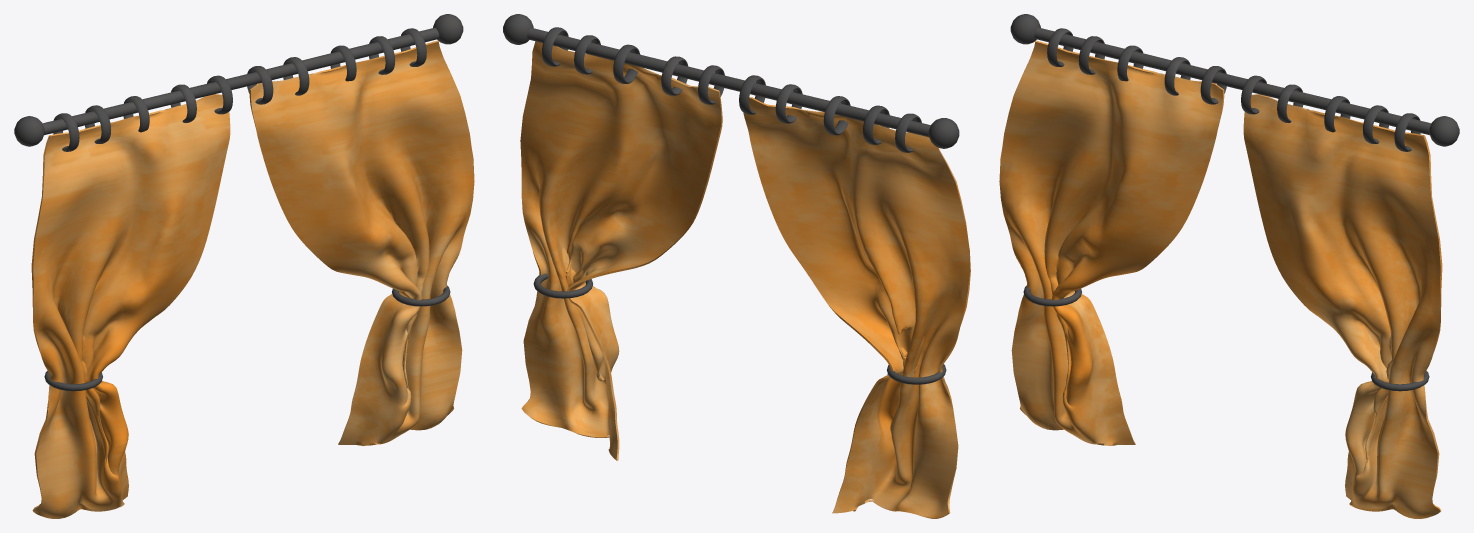
Rendered from House_Curtain_v01.fbx.
3 views of the same model, side by side, from view 1: azimuth 30°, elevation 25°; view 2: azimuth 150°, elevation 25°; view 3: azimuth 330°, elevation 25° (orthographic).
Parts seen in each view (by area): view 1: Curtain_Cloth, Curtain_Ring, Curtain_Poll, Curtain_Ball, Curtain_Holder; view 2: Curtain_Cloth, Curtain_Ring, Curtain_Poll, Curtain_Ball, Curtain_Holder; view 3: Curtain_Cloth, Curtain_Ring, Curtain_Poll, Curtain_Ball, Curtain_Holder.
Boxes of the visible parts, x1,y1,x2,y2 form: Curtain_Cloth: [31, 40, 474, 518]; Curtain_Ring: [53, 28, 426, 151]; Curtain_Poll: [42, 27, 439, 135]; Curtain_Ball: [14, 14, 463, 146]; Curtain_Holder: [44, 285, 450, 391]; Curtain_Cloth: [520, 41, 970, 518]; Curtain_Ring: [542, 27, 921, 152]; Curtain_Poll: [527, 28, 930, 137]; Curtain_Ball: [503, 14, 959, 148]; Curtain_Holder: [533, 273, 946, 384]; Curtain_Cloth: [999, 40, 1442, 518]; Curtain_Ring: [1047, 28, 1420, 151]; Curtain_Poll: [1034, 27, 1431, 135]; Curtain_Ball: [1010, 14, 1459, 146]; Curtain_Holder: [1023, 285, 1429, 391].
Size of the model in its own units: 254 by 31.94 by 223.
1 material, 1 textured.
